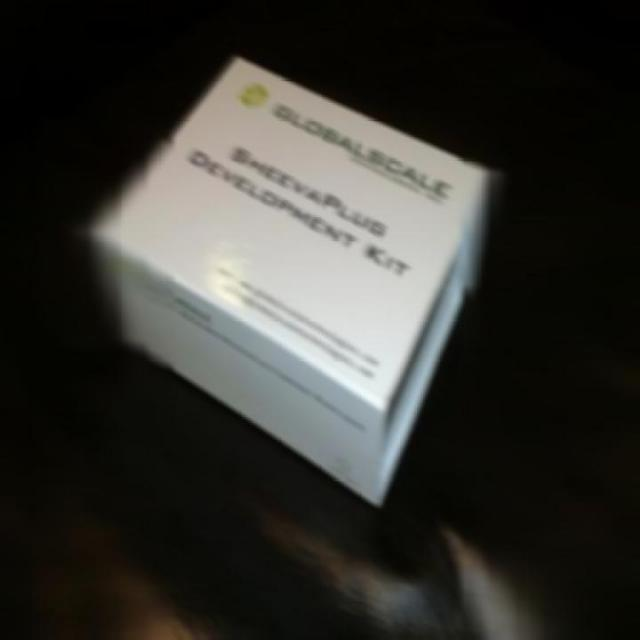box: (96, 62, 500, 500)
